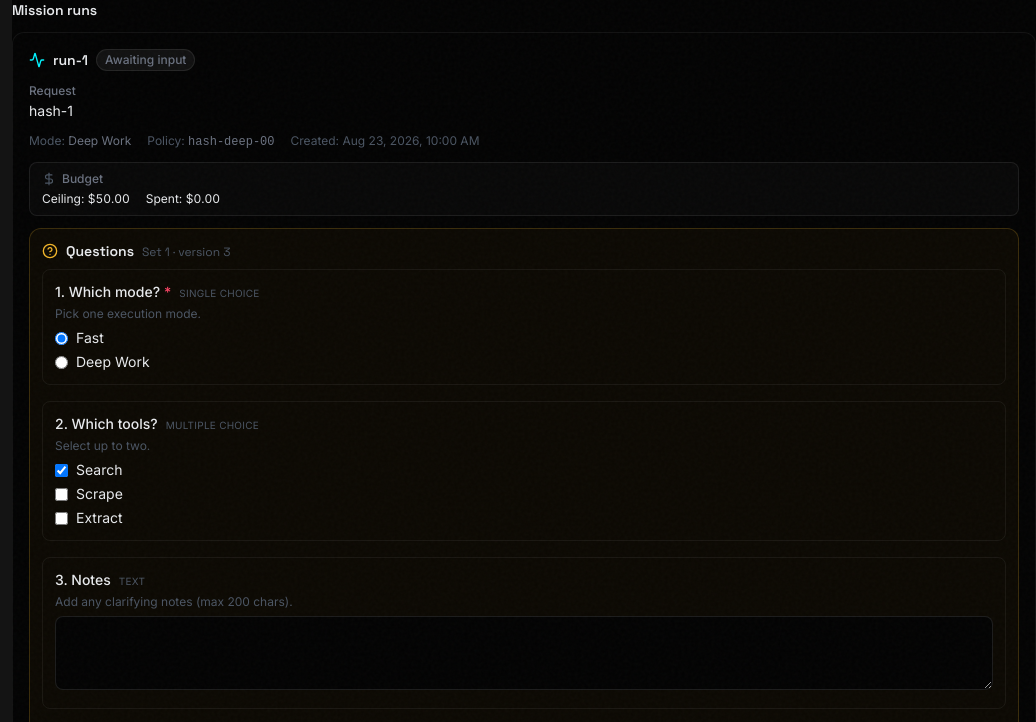
Scenario: VAL-CROSS-013: stale question action is rejected and prompts refresh › shows a refresh message and preserves typed input on a 412 RUN_VERSION_MISMATCH
Note: Fill answers.
Click the radio button labelled "Deep Work" at (62, 362), box [55,356,68,368]
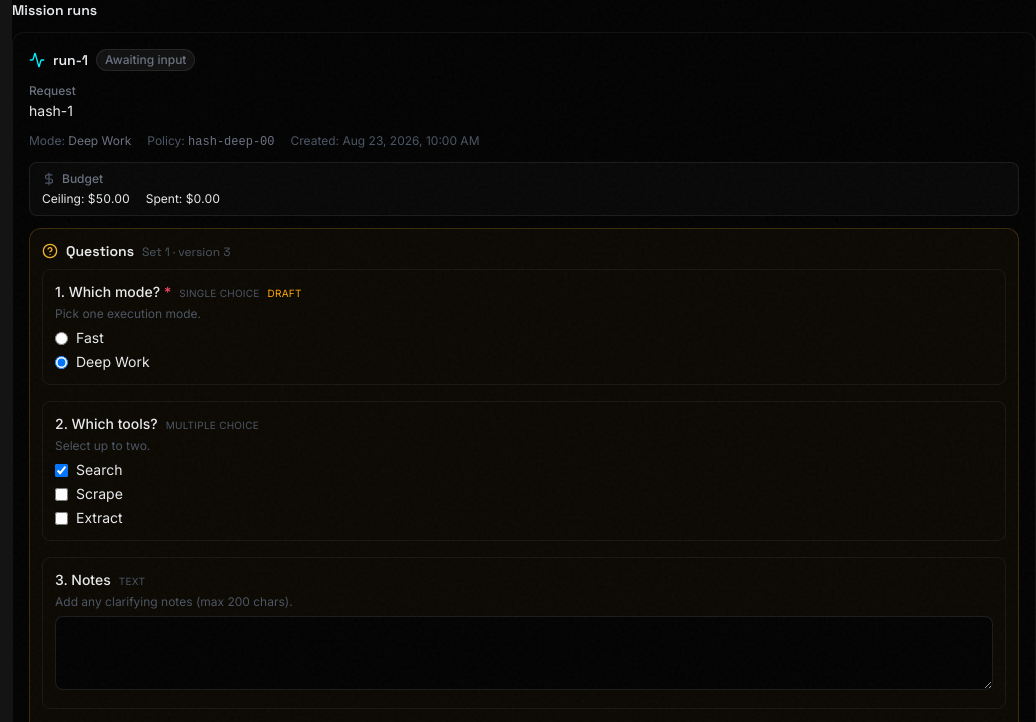
Type "Stale draft" into the text box named "Notes" at (524, 653), box [55,616,993,690]
(page scrolled)
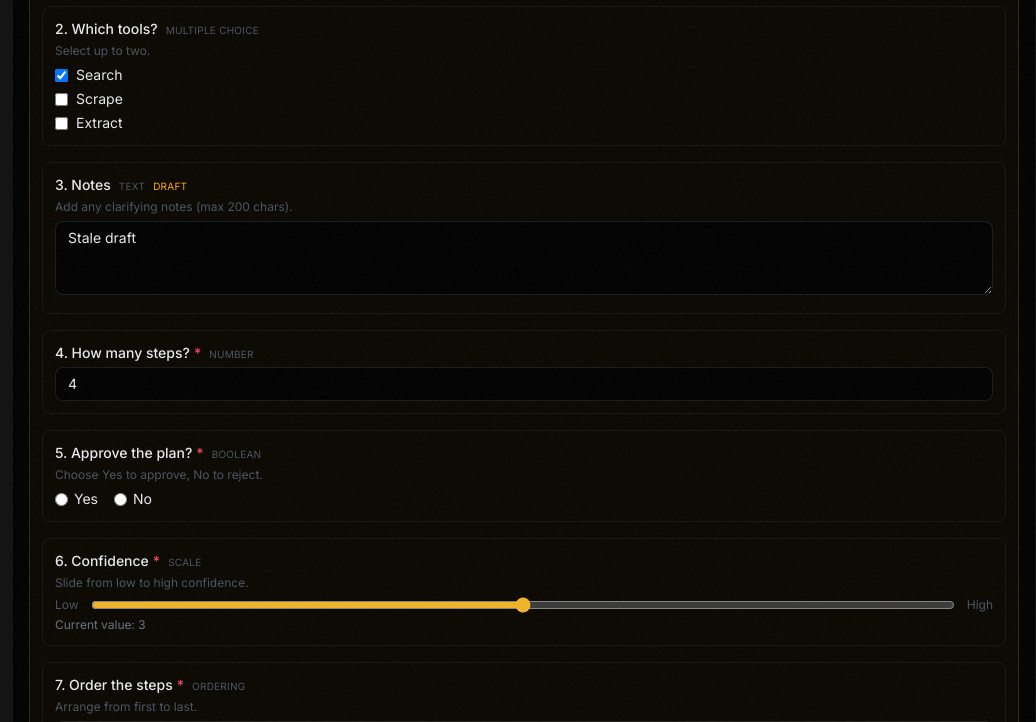
Replace the text in the number field named "How many steps?" with "6" at (524, 384), box [55,367,993,401]
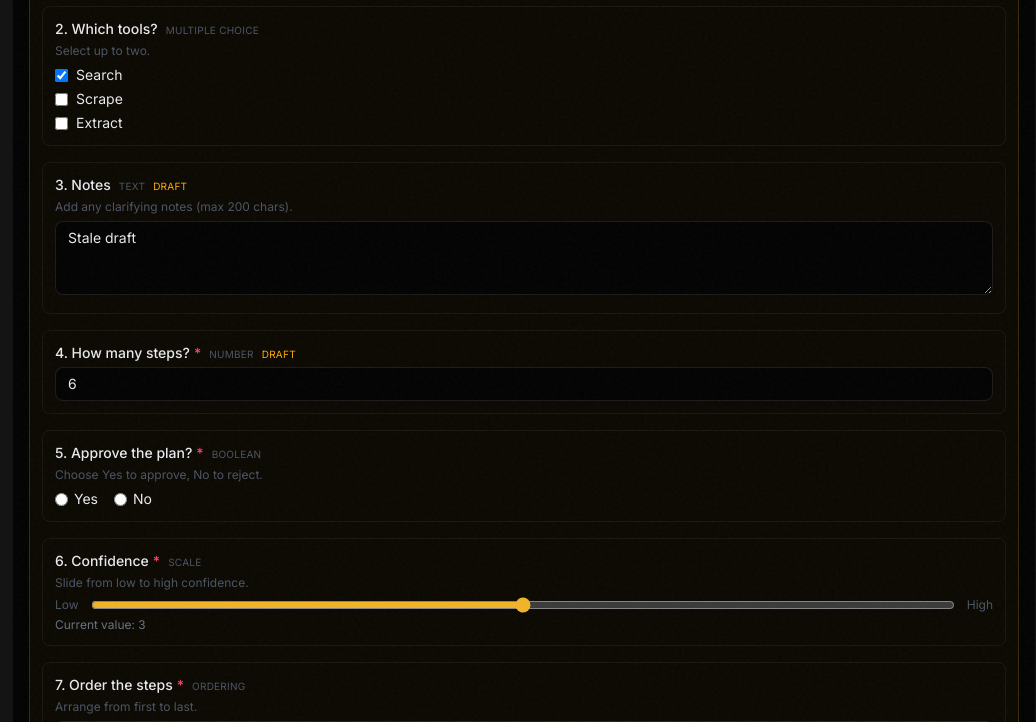
Click the radio button labelled "Yes" at (62, 499), box [55,492,68,506]
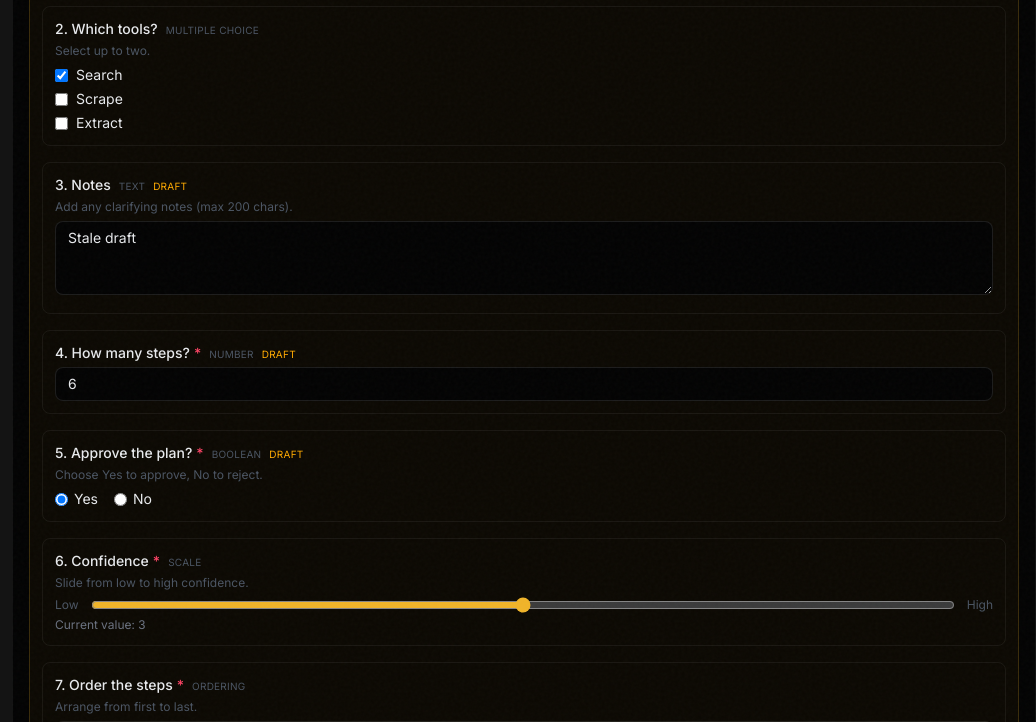
Set the slider named "Confidence" to "5" at (947, 605), box [91,597,955,613]
(page scrolled)
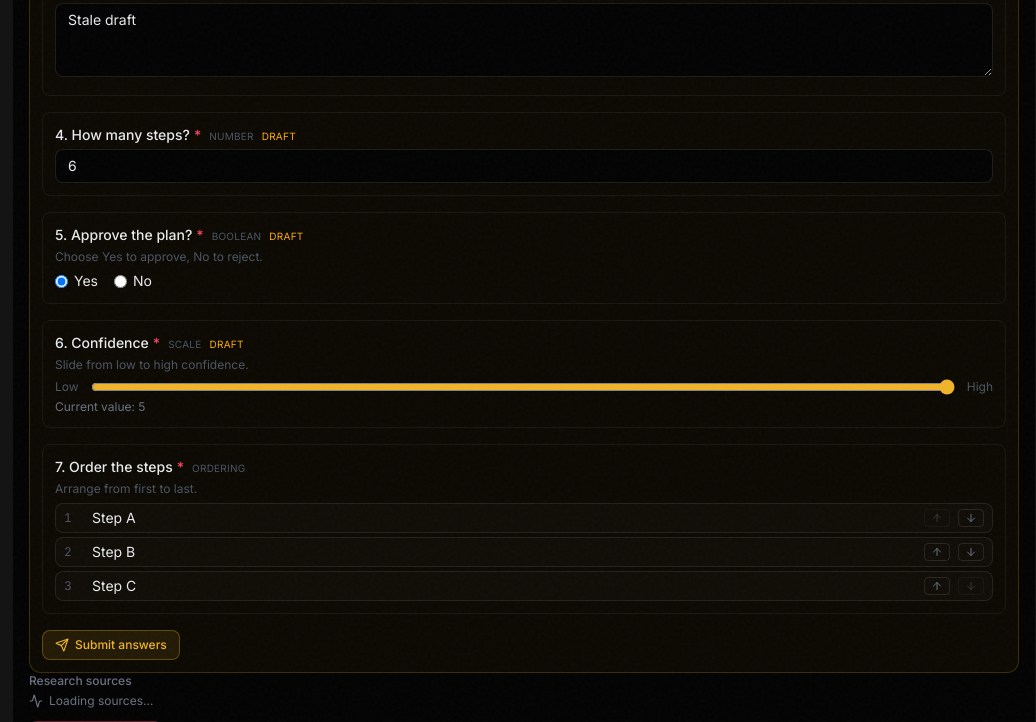
Note: Submit — server says the run version changed.
Click the button "Submit answers" at (111, 645), box [42,630,180,660]
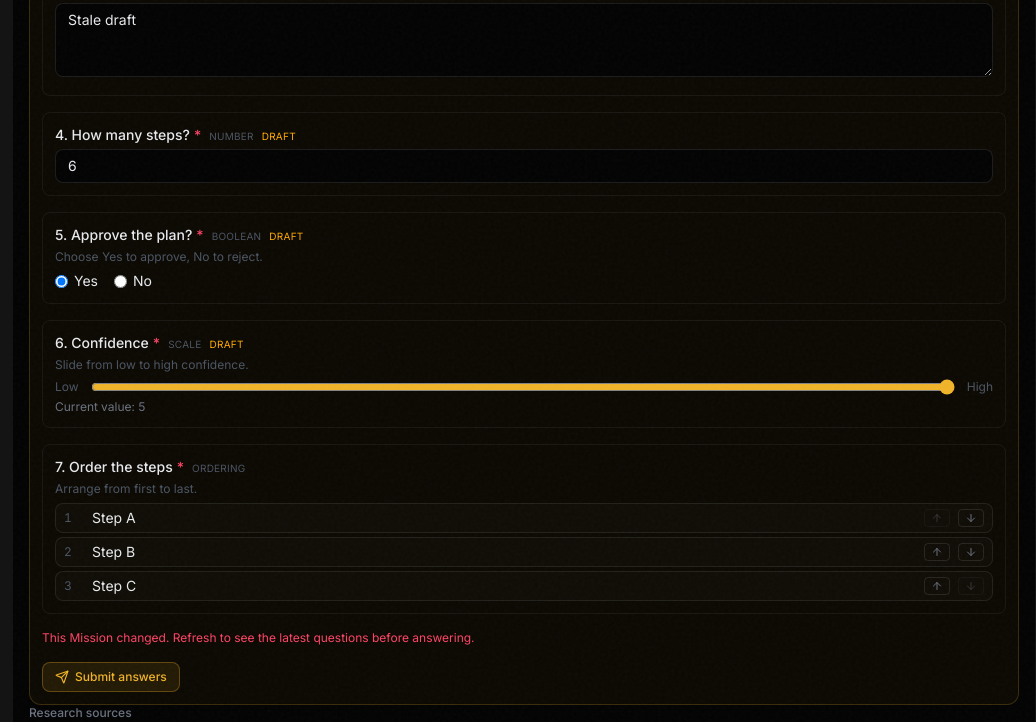
Expected: the button "Submit answers" is shown, [42,662,180,692]
Expected: the message reads "This Mission changed. Refresh to see the latest questions before answering.", [42,630,474,645]
